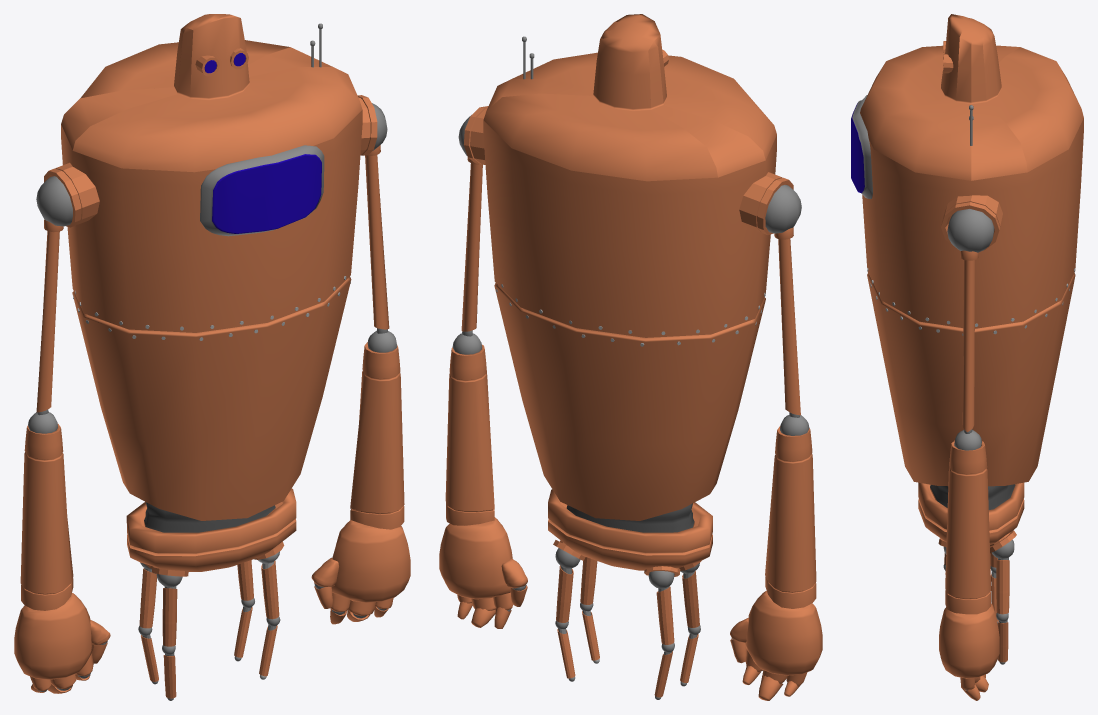
File: Milestone 1.fbx
3 views of the same model, side by side, from view 1: azimuth 30°, elevation 25°; view 2: azimuth 150°, elevation 25°; view 3: azimuth 270°, elevation 25° (orthographic). The views are drawn at different scales.
Visible parts, largest first — view 1: pCylinder1, pCube1, pasted__pCylinder7, pCylinder7, pCylinder2, pasted__pCylinder8, pCylinder8, pCylinder5, pasted__pCylinder5, pCylinder4, pasted__pasted__pCylinder12 (×2), pSphere1 (+2 smaller); view 2: pCylinder1, pCylinder7, pasted__pCylinder7, pCylinder2, pCylinder8, pasted__pCylinder8, pCylinder5, pasted__pCylinder5, pCylinder4, pasted__pasted__pCylinder12 (×2), pSphere1, pasted__pCylinder4 (+2 smaller); view 3: pCylinder1, pasted__pCylinder7, pasted__pCylinder8, pCylinder2, pasted__pCylinder5, pasted__pSphere1, pCube1, pasted__pCylinder4, pasted__pCylinder12, pasted__pasted__pSphere1, pasted__pasted__pasted__pCylinder12.
Boxes of the visible parts, x1,y1,x2,y2 form: pCylinder1: (61,14,362,532); pCube1: (200,145,324,236); pasted__pCylinder7: (350,342,404,529); pCylinder7: (20,424,73,610); pCylinder2: (126,488,296,571); pasted__pCylinder8: (331,520,410,602); pCylinder8: (14,593,93,679); pCylinder5: (36,219,63,412); pasted__pCylinder5: (365,145,389,329); pCylinder4: (44,162,99,227); pasted__pasted__pCylinder12 (×2): (139,568,177,646); pSphere1: (36,176,72,226); pCylinder1: (483,14,776,532); pCylinder7: (765,426,816,608); pasted__pCylinder7: (445,344,494,525); pCylinder2: (548,489,712,570); pCylinder8: (745,591,822,675); pasted__pCylinder8: (439,517,512,599); pCylinder5: (774,227,800,415); pasted__pCylinder5: (461,157,482,331); pCylinder4: (739,172,793,234); pasted__pasted__pCylinder12 (×2): (656,571,699,644); pSphere1: (765,185,801,233); pasted__pCylinder4: (464,106,488,164); pCylinder1: (860,14,1083,509); pasted__pCylinder7: (945,440,991,614); pasted__pCylinder8: (939,603,999,678); pCylinder2: (918,482,1024,544); pasted__pCylinder5: (960,250,978,432); pasted__pSphere1: (947,209,994,252); pCube1: (851,95,872,198); pasted__pCylinder4: (941,195,1002,250); pasted__pCylinder12: (996,560,1009,614); pasted__pasted__pSphere1: (954,430,981,450); pasted__pasted__pasted__pCylinder12: (997,622,1008,662).
Bounding box in the file's own units: 12.51 × 20.79 × 7.
